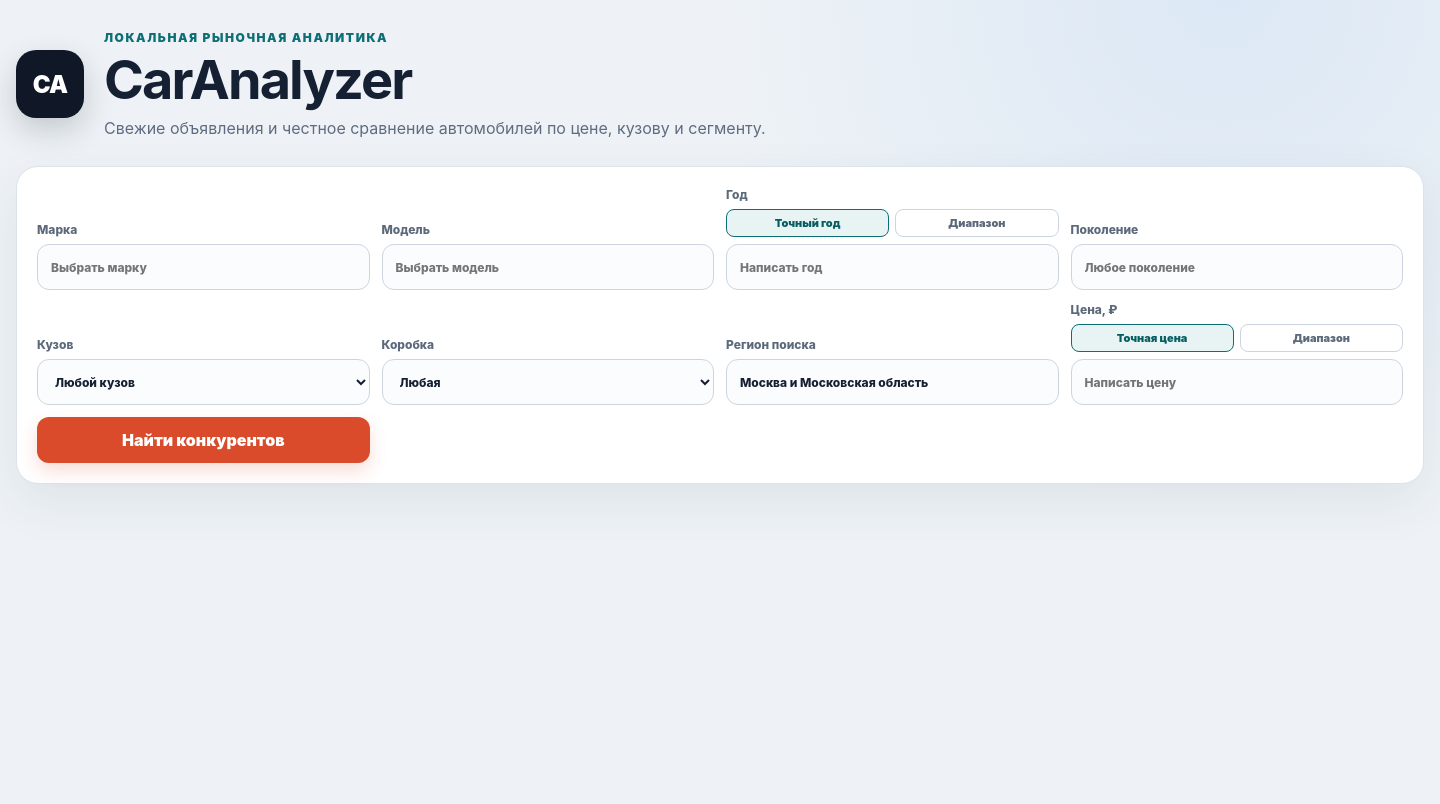
CarAnalyzer form › does not start technical discovery or Gemini after a normal market search
Type "Example Brand" into the dropdown labelled "Марка".
click(203, 267); type("Example Brand")  # box left=37, top=244, right=370, bottom=290
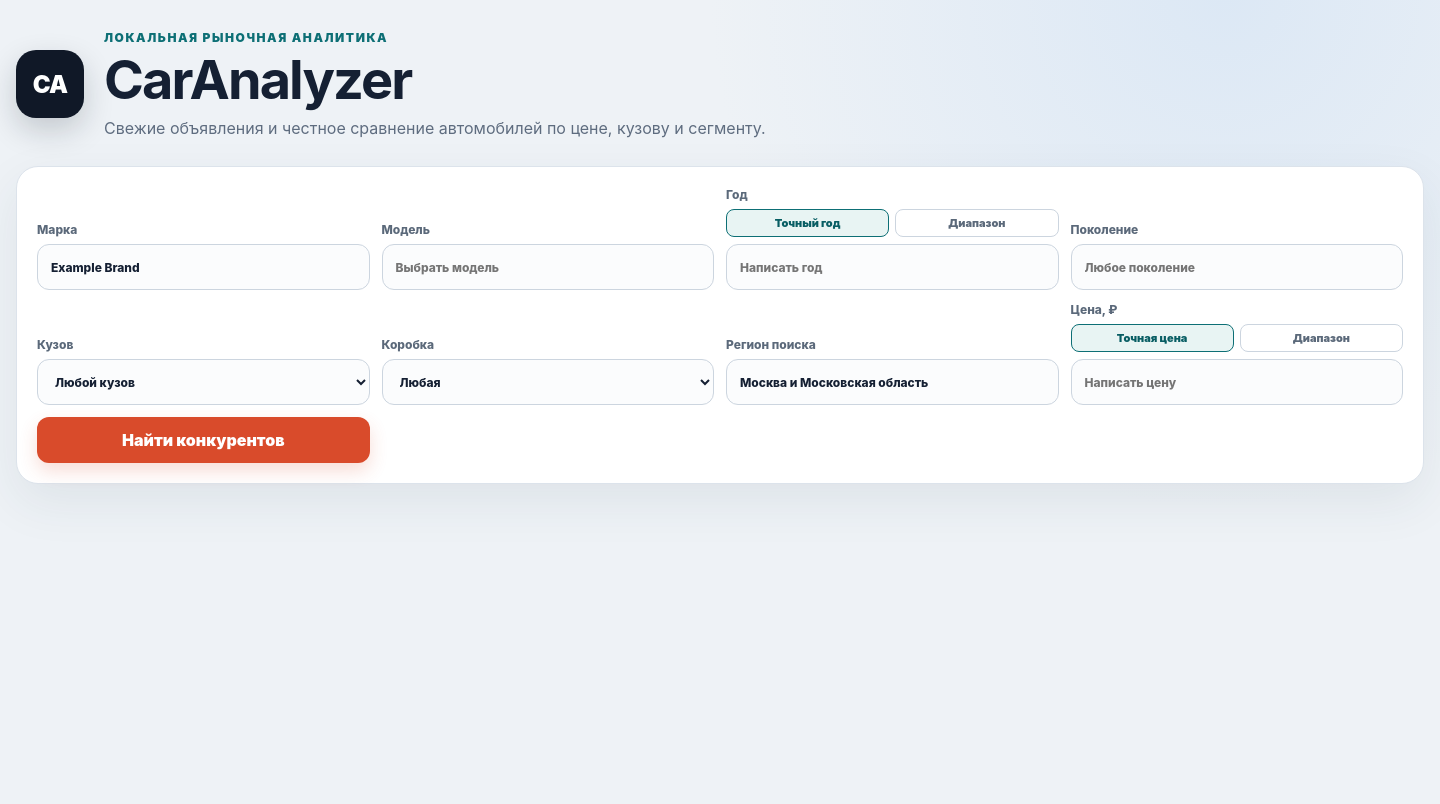
Type "Example Model" into the dropdown labelled "Модель".
click(548, 267); type("Example Model")  # box left=382, top=244, right=714, bottom=290
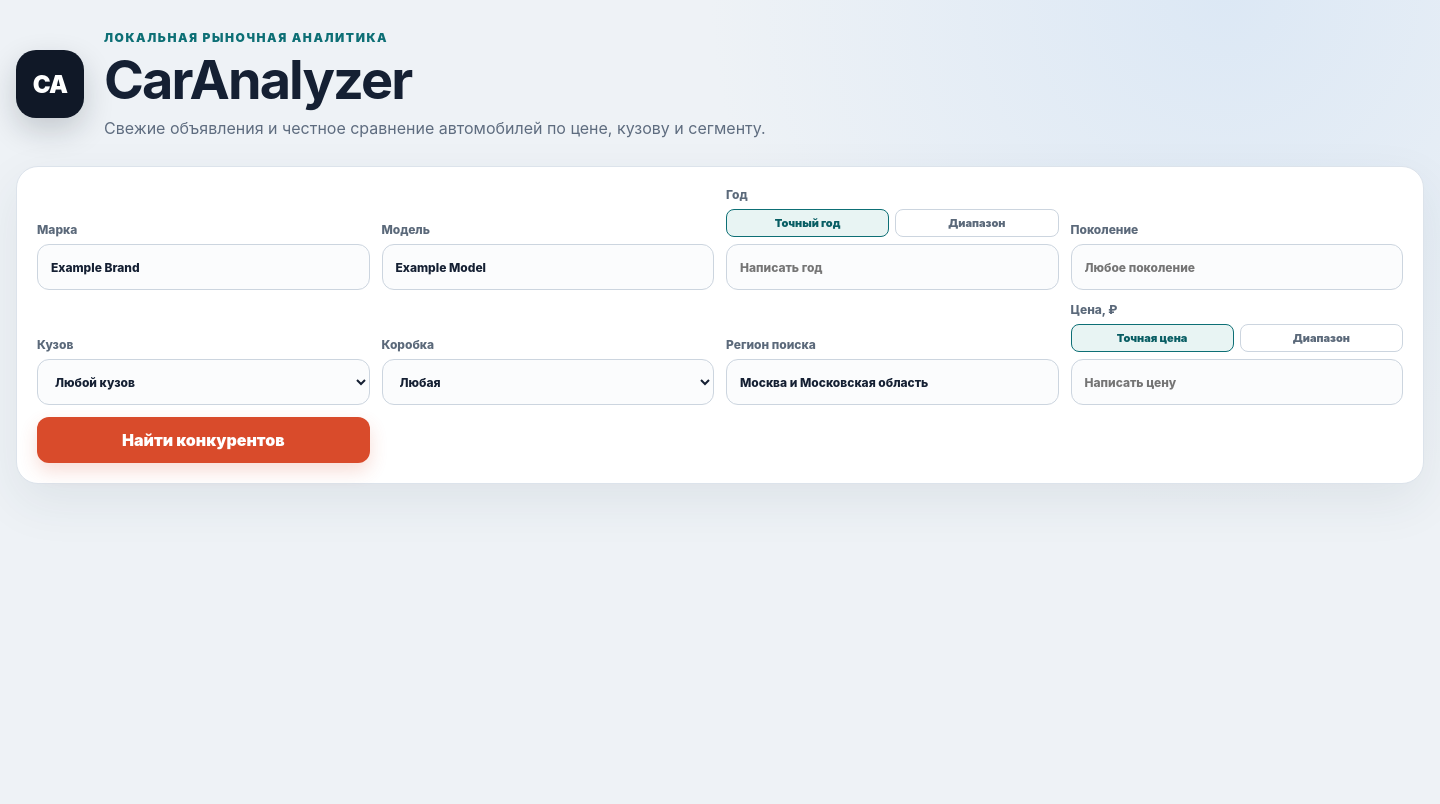
Type "2016" into the number field labelled "год".
click(892, 267); type("2016")  # box left=726, top=244, right=1058, bottom=290
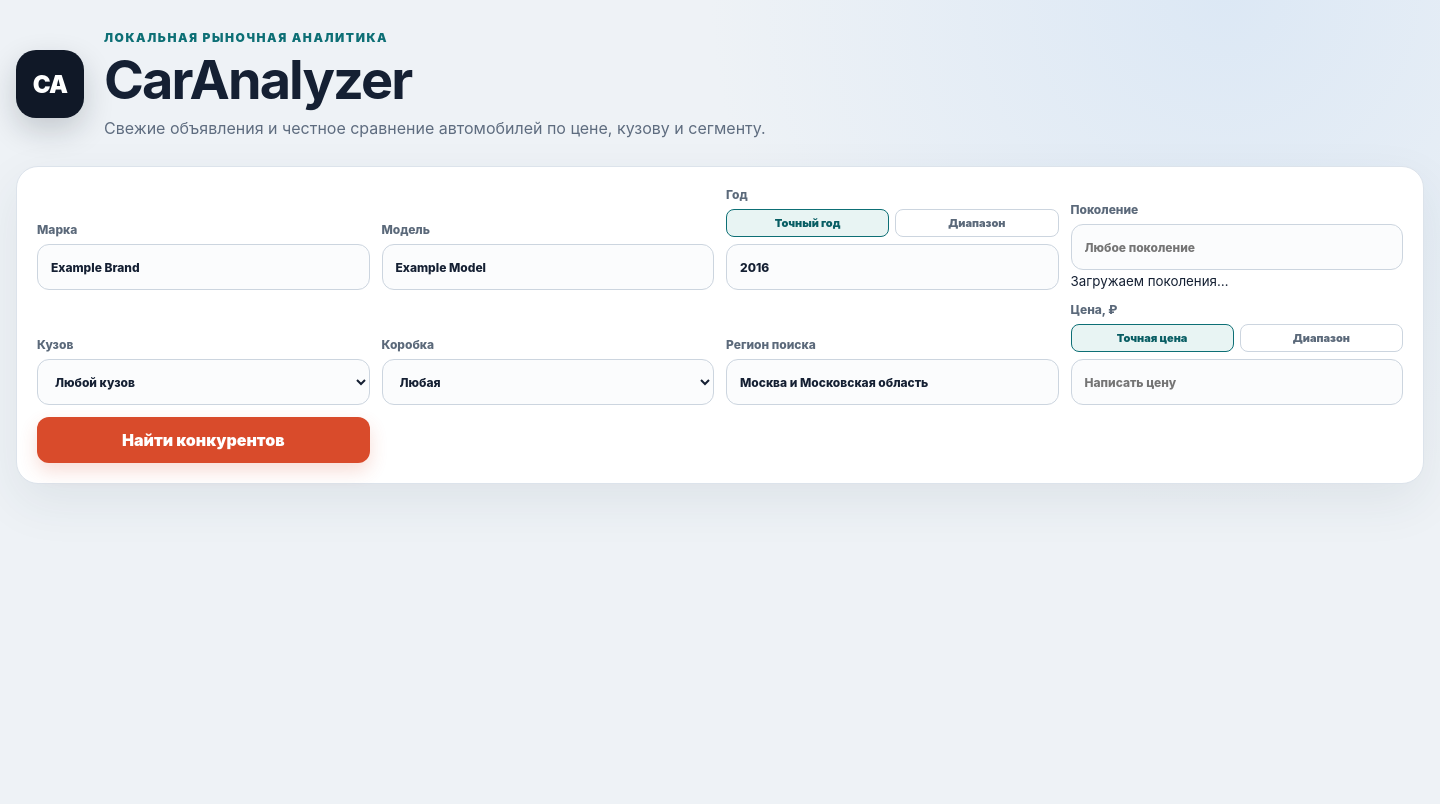
Type "700000" into the field named "Цена".
click(1237, 382); type("700000")  # box left=1070, top=359, right=1403, bottom=405
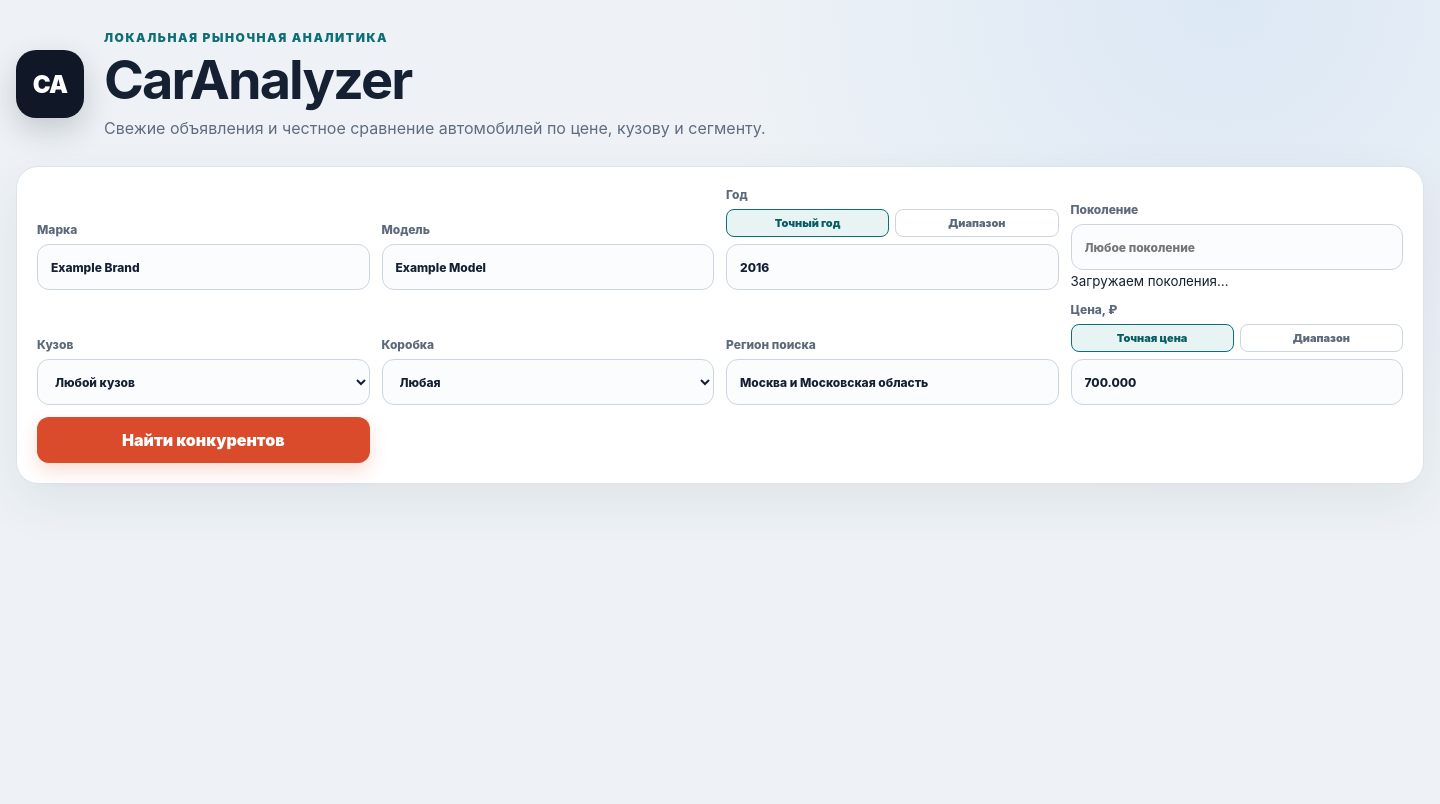
Click the button "Найти конкурентов".
click(203, 440)  # box left=37, top=417, right=370, bottom=463
(page scrolled)
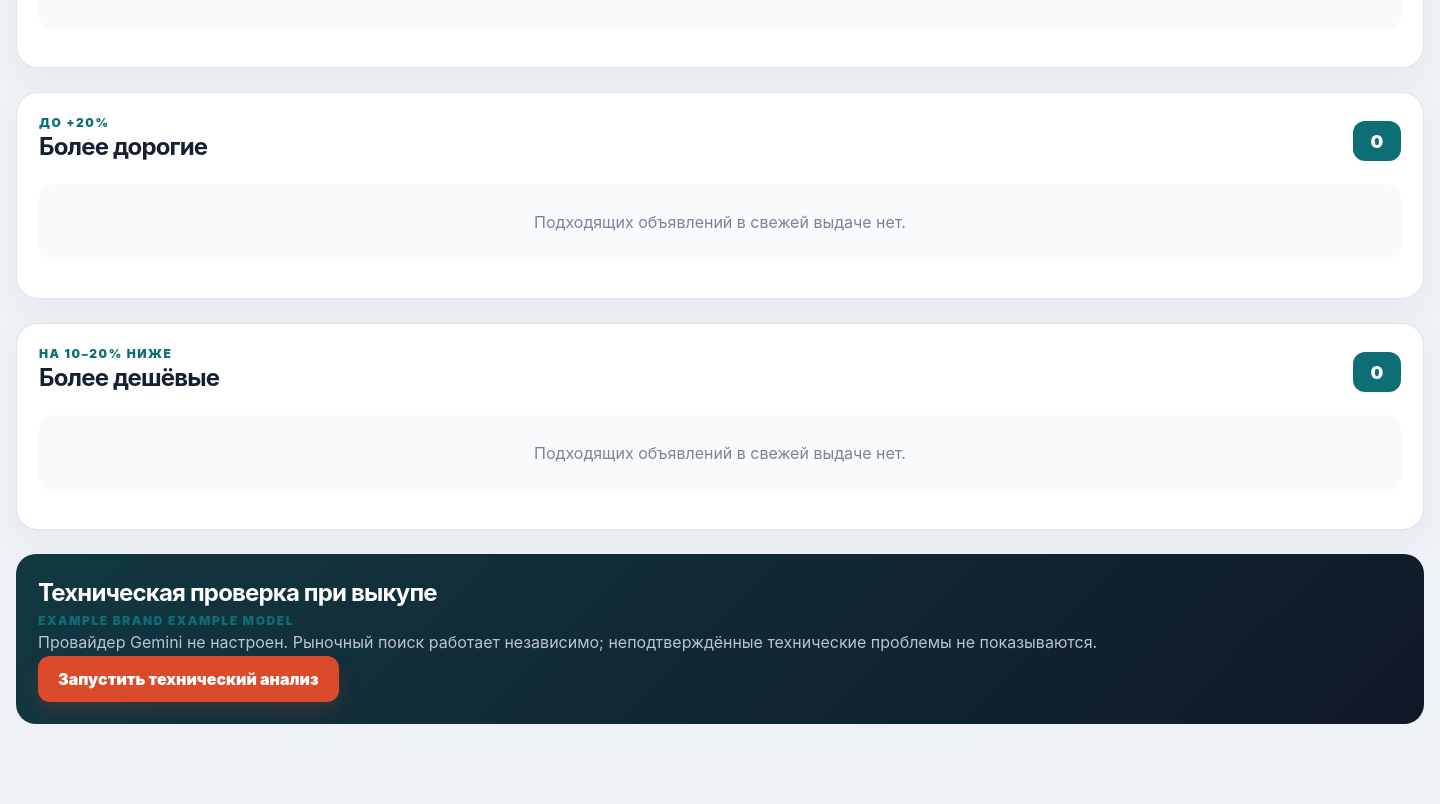
Expected: the button "Запустить технический анализ" is shown, left=38, top=656, right=339, bottom=702
